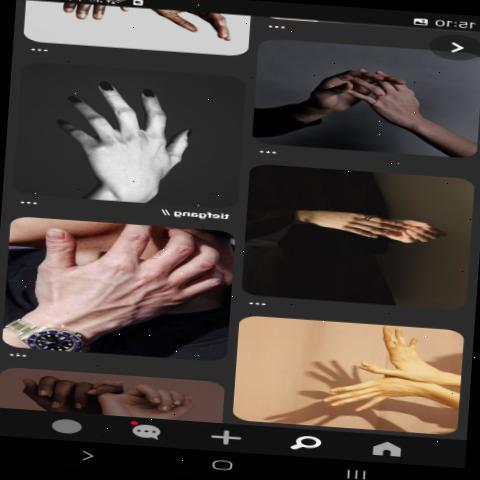Hands: (8, 227, 231, 344), (44, 74, 227, 196), (281, 204, 408, 256), (283, 374, 421, 416), (346, 64, 430, 131), (332, 331, 444, 376)
